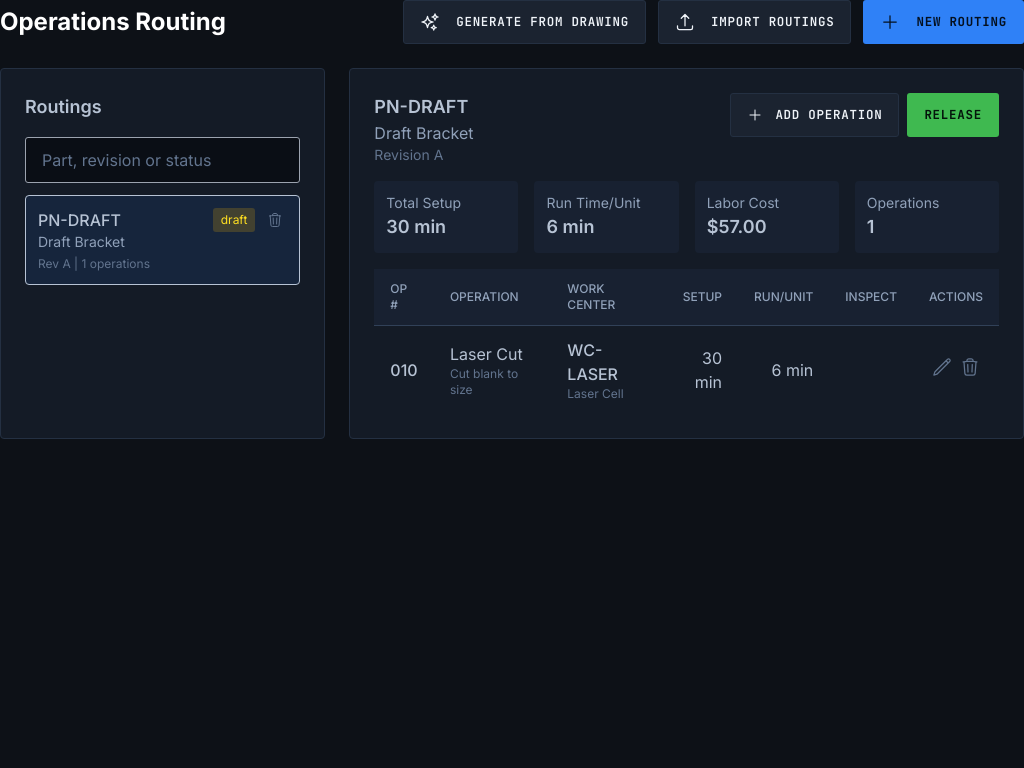
Test case: Routing — process-sheet attach control › loads released sheets and offers them in the Process Sheet select
Expected: the text "Laser Cut" is shown, left=450, top=342, right=535, bottom=366
Click the button titled "Edit operation" at (942, 367), box left=932, top=357, right=952, bottom=377
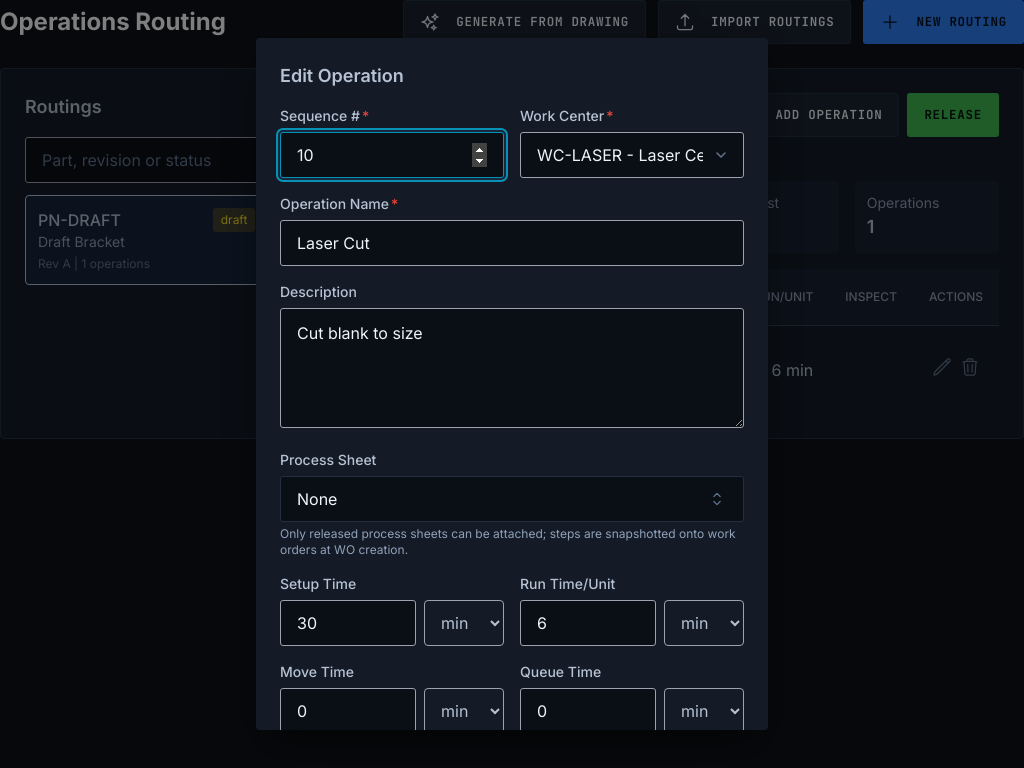
Click the dropdown named "Process sheet" at (317, 499), box left=280, top=476, right=744, bottom=522
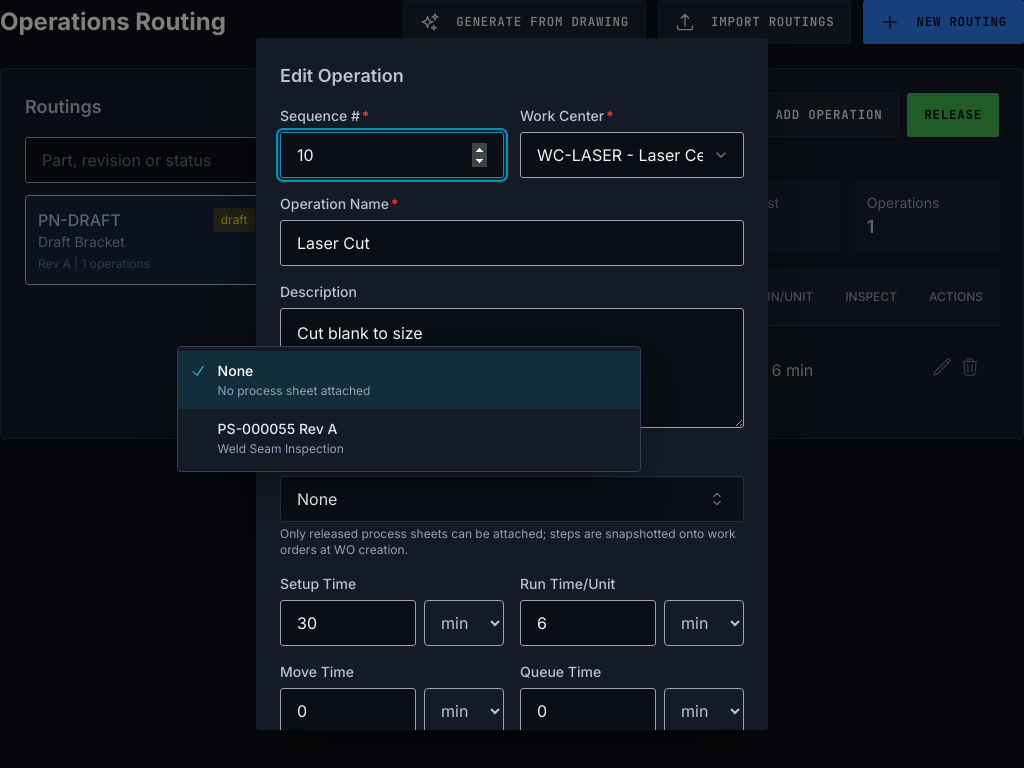
Expected: the 1st text "None" is shown, left=218, top=362, right=253, bottom=379
Expected: the text "PS-000055 Rev A" is shown, left=218, top=419, right=344, bottom=439
Expected: the text "Weld Seam Inspection" is shown, left=218, top=441, right=344, bottom=457
